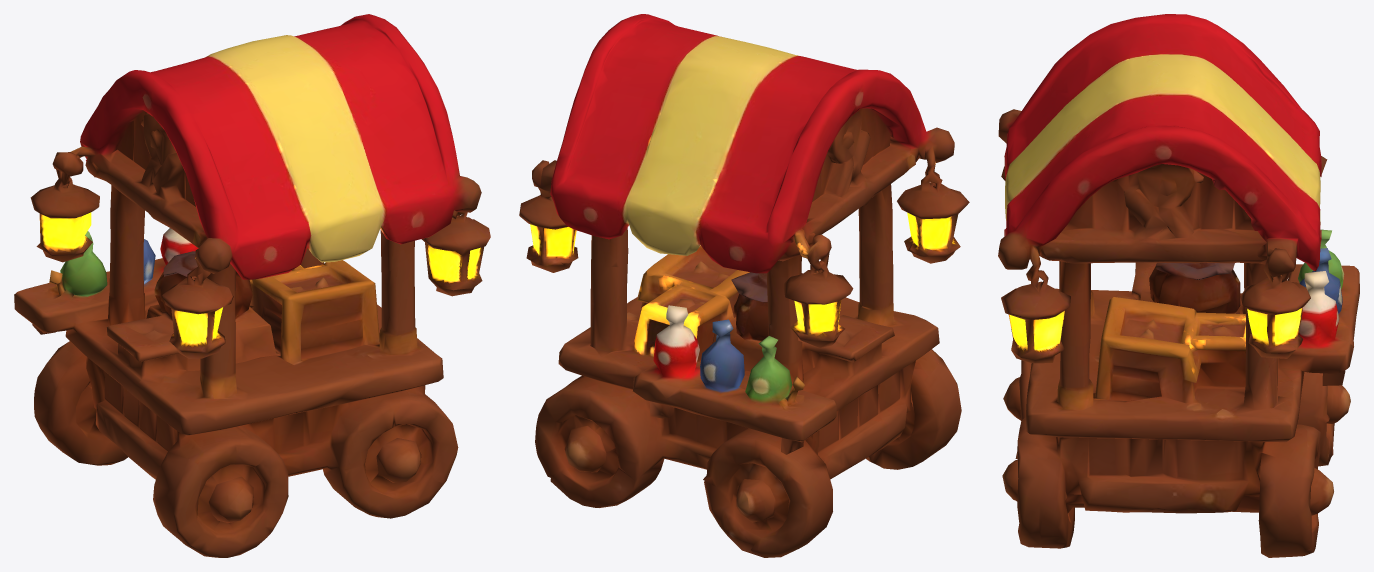
Rendered from merchant_cart-CnVGimvS.glb.
The picture shows the model from 3 angles, left to right: view 1: azimuth 30°, elevation 25°; view 2: azimuth 150°, elevation 25°; view 3: azimuth 270°, elevation 25°; orthographic projection. The views are drawn at different scales.
Parts seen in each view (by area): view 1: tripo_node_8ced7197-5522-4f13-9df2-01fe8e984f3d; view 2: tripo_node_8ced7197-5522-4f13-9df2-01fe8e984f3d; view 3: tripo_node_8ced7197-5522-4f13-9df2-01fe8e984f3d.
Boxes of the visible parts, bbox=[...] form: tripo_node_8ced7197-5522-4f13-9df2-01fe8e984f3d: bbox=[14, 14, 490, 557]; tripo_node_8ced7197-5522-4f13-9df2-01fe8e984f3d: bbox=[519, 14, 969, 557]; tripo_node_8ced7197-5522-4f13-9df2-01fe8e984f3d: bbox=[998, 14, 1359, 557].
Bounding box in the file's own units: 0.8219 × 1 × 0.7471.
1 material, 1 textured.
